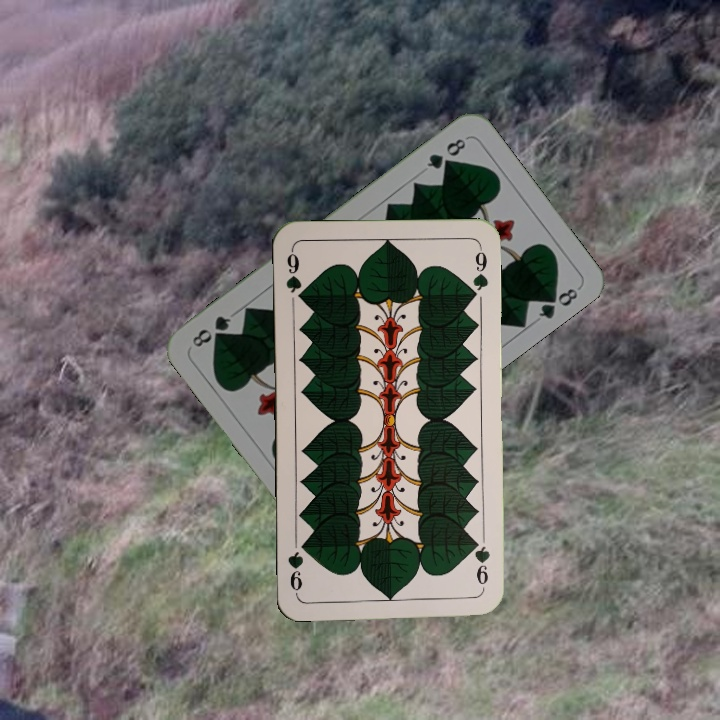G8: (422, 133, 470, 172)
G9: (282, 246, 307, 305), (469, 534, 492, 592)
